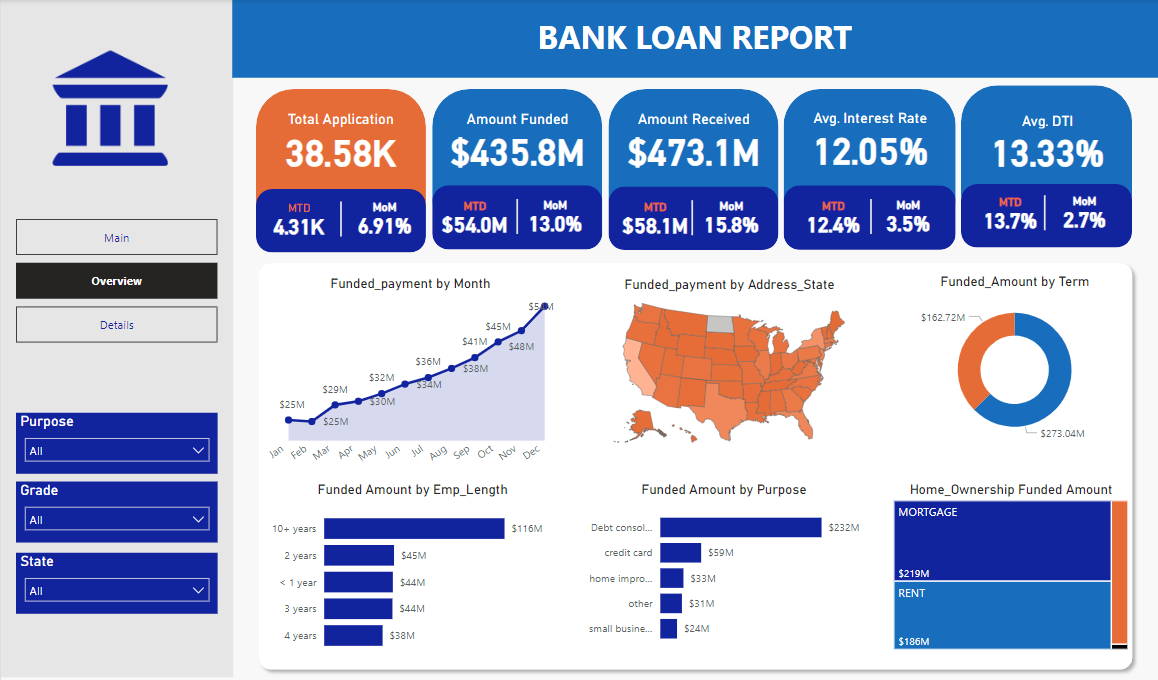

Layout of this report page (visuals, bound fields, positions):
{"tool":"powerbi","page":{"name":"Overview","canvas":[1350,800],"ordinal":1},"visuals":[{"type":"shape","box":[0,0,270.9,791.4],"z":0},{"type":"shape","box":[270.3,0,1079.4,91.3],"z":1000},{"type":"shape","box":[913.4,105.5,201,171.1],"z":2000},{"type":"textbox","box":[601.5,12.5,417.2,63.1],"z":3000},{"type":"shape","box":[1120.2,101.2,199.6,169.7],"z":3000,"group":"g1"},{"type":"shape","box":[708.5,105.5,198.2,172.5],"z":4000,"group":"g2"},{"type":"shape","box":[913.4,216.7,201,75.6],"z":4000},{"type":"shape","box":[1120.2,216.7,199.6,74.1],"z":5000,"group":"g1"},{"type":"shape","box":[290.9,302.2,368.9,239.3],"z":5000},{"type":"image","box":[55.6,55.6,144,144],"z":6000},{"type":"shape","box":[708.5,219.6,198.2,74.1],"z":6000,"group":"g2"},{"type":"pageNavigator","box":[16.8,359.3,235.3,42.8],"z":7000},{"type":"pageNavigator","box":[16.8,308,235.3,42.8],"z":8000},{"type":"card","title":"MTD","fields":{"Values":["financial_loan.MTD AMOUNT RECEIVED"]},"box":[718.5,221,88.4,74.1],"z":9000,"group":"g2"},{"type":"pageNavigator","box":[16.8,256.7,235.3,42.8],"z":9000},{"type":"shape","box":[503.2,105.5,198.2,172.5],"z":10000,"group":"g3"},{"type":"slicer","title":"Purpose","fields":{"Values":["financial_loan.purpose"]},"box":[17.2,482.6,235.4,71.4],"z":10000},{"type":"card","title":" Amount Received","fields":{"Values":["Sum(financial_loan.total_payment)"]},"box":[722.8,115.5,169.7,104.1],"z":11000,"group":"g2"},{"type":"slicer","title":"Grade","fields":{"Values":["financial_loan.grade"]},"box":[17.2,563.3,235.4,71.4],"z":11000},{"type":"shape","box":[503.2,218.2,198.4,74.9],"z":12000,"group":"g3"},{"type":"slicer","title":"State","fields":{"Values":["financial_loan.address_state"]},"box":[17.2,646.6,235.4,71.4],"z":12000},{"type":"group","id":"g1","title":"Group 3","box":[1120.2,101.2,199.6,189.6],"z":13000},{"type":"shape","box":[796.3,235.9,20.4,40.8],"z":13000,"group":"g2"},{"type":"shape","box":[297.9,105.5,198.2,175.4],"z":14000,"group":"g4"},{"type":"group","id":"g2","title":"Group 5","box":[708.5,105.5,198.2,189.6],"z":14000},{"type":"group","id":"g3","title":"Group 6","box":[503.2,105.5,198.4,188.1],"z":15000},{"type":"card","title":"MoM","fields":{"Values":["financial_loan.MoM Received amount"]},"box":[806.9,219.6,91.3,74.1],"z":15000,"group":"g2"},{"type":"group","id":"g4","title":"Group 7","box":[297.9,105.5,198.2,190.1],"z":16000},{"type":"shape","box":[297.9,221.5,198.2,74.1],"z":16000,"group":"g4"},{"type":"shape","box":[654.5,303.8,368.9,239.3],"z":17000},{"type":"card","title":"MTD","fields":{"Values":["financial_loan.MTD INTEREST RATE"]},"box":[925.3,218.2,89.8,74.1],"z":18000},{"type":"shape","box":[1019.5,302.5,309.4,239.3],"z":19000},{"type":"card","title":"Avg. Interest Rate","fields":{"Values":["Avg(financial_loan.int_rate)"]},"box":[939.5,114.1,149.7,104.1],"z":20000},{"type":"card","title":"MTD","fields":{"Values":["financial_loan.MTD LOAN APPLICATION"]},"box":[301.1,221.5,94.1,74.1],"z":20000,"group":"g4"},{"type":"shape","box":[291.3,542.8,368.9,239.3],"z":21000},{"type":"card","title":"Total Application","fields":{"Values":["CountNonNull(financial_loan.id)"]},"box":[319.3,115.5,154,105.5],"z":22000,"group":"g4"},{"type":"shape","box":[1004.6,233,20.4,40.8],"z":22000},{"type":"card","title":"MTD","fields":{"Values":["financial_loan.MTD funded amount"]},"box":[503.6,218.9,99.2,74.8],"z":23000,"group":"g3"},{"type":"shape","box":[655,544.4,368.9,239.3],"z":23000},{"type":"card","title":"Amount Funded ","fields":{"Values":["Sum(financial_loan.loan_amount)"]},"box":[514.6,115.5,175.4,104.1],"z":24000,"group":"g3"},{"type":"shape","box":[1020,543.1,309.4,239.3],"z":24000},{"type":"card","title":"MoM","fields":{"Values":["financial_loan.MoM Interest rate"]},"box":[1014.3,216.7,87,74.1],"z":25000},{"type":"shape","box":[386.8,236.4,20.4,40.8],"z":26000,"group":"g4"},{"type":"areaChart","title":"Funded_payment by Month","fields":{"Category":["financial_loan.MonthName"],"Y":["Sum(financial_loan.loan_amount)"]},"box":[304.1,321.3,345.1,224.8],"z":26000},{"type":"shape","box":[592,233.8,20.4,40.8],"z":27000,"group":"g3"},{"type":"barChart","fields":{"Category":["financial_loan.emp_length"],"Y":["financial_loan.Funded Amount"]},"box":[306.8,563.3,347.8,210.2],"z":27000},{"type":"card","title":"MoM","fields":{"Values":["financial_loan.MoM funded amount"]},"box":[605.9,218.1,82.7,74.1],"z":28000,"group":"g3"},{"type":"barChart","fields":{"Category":["financial_loan.purpose"],"Y":["financial_loan.Funded Amount"]},"box":[669.1,563.3,347.8,201],"z":28000},{"type":"treemap","title":" home_ownership Funded Amount","fields":{"Group":["financial_loan.home_ownership"],"Values":["financial_loan.Funded Amount"]},"box":[1036.7,563.3,283,201],"z":29000},{"type":"card","title":"MoM","fields":{"Values":["financial_loan.MoM Application"]},"box":[406.6,220,81.3,74.1],"z":30000,"group":"g4"},{"type":"shapeMap","title":"Funded_payment by address_state","fields":{"Category":["financial_loan.address_state"],"Value":["Sum(financial_loan.loan_amount)"]},"box":[690.2,324,320,207.6],"z":30000},{"type":"donutChart","title":"Funded_amount by term","fields":{"Category":["financial_loan.term"],"Y":["Sum(financial_loan.loan_amount)"]},"box":[1040.7,321.3,283,206.3],"z":31000},{"type":"card","title":"MTD","fields":{"Values":["financial_loan.MTD AVERAGE DTI"]},"box":[1134.1,215.3,85.6,74.1],"z":32000,"group":"g1"},{"type":"card","title":"Avg. DTI","fields":{"Values":["Avg(financial_loan.dti)"]},"box":[1133,116.9,175.4,104.1],"z":34000,"group":"g1"},{"type":"shape","box":[1208.2,230.2,20.4,40.8],"z":36000,"group":"g1"},{"type":"card","title":"MoM","fields":{"Values":["financial_loan.MoM DTI"]},"box":[1219.7,213.8,89.8,74.1],"z":38000,"group":"g1"}]}

Visuals, with their boxes in screenshot pixels (x1, y1, x2, y2), scaled from the page's 1350x800 canvas onto the 1158x680 screenshot:
shape: 0:0:232:673
shape: 232:0:1157:78
shape: 783:90:956:235
textbox: 516:11:874:64
shape: 961:86:1132:230
shape: 608:90:778:236
shape: 783:184:956:248
shape: 961:184:1132:247
shape: 250:257:566:460
image: 48:47:171:170
shape: 608:187:778:250
pageNavigator: 14:305:216:342
pageNavigator: 14:262:216:298
"MTD" card: 616:188:692:251
pageNavigator: 14:218:216:255
shape: 432:90:602:236
"Purpose" slicer: 15:410:217:471
" Amount Received" card: 620:98:766:187
"Grade" slicer: 15:479:217:539
shape: 432:185:602:249
"State" slicer: 15:550:217:610
"Group 3" group: 961:86:1132:247
shape: 683:201:701:235
shape: 256:90:426:239
"Group 5" group: 608:90:778:251
"Group 6" group: 432:90:602:250
"MoM" card: 692:187:770:250
"Group 7" group: 256:90:426:251
shape: 256:188:426:251
shape: 561:258:878:462
"MTD" card: 794:185:871:248
shape: 875:257:1140:461
"Avg. Interest Rate" card: 806:97:934:185
"MTD" card: 258:188:339:251
shape: 250:461:566:665
"Total Application" card: 274:98:406:188
shape: 862:198:879:233
"MTD" card: 432:186:517:250
shape: 562:463:878:666
"Amount Funded " card: 441:98:592:187
shape: 875:462:1140:665
"MoM" card: 870:184:945:247
shape: 332:201:349:236
"Funded_payment by Month" areaChart: 261:273:557:464
shape: 508:199:525:233
barChart - financial_loan.emp_length x financial_loan.Funded Amount: 263:479:562:657
"MoM" card: 520:185:591:248
barChart - financial_loan.purpose x financial_loan.Funded Amount: 574:479:872:650
" home_ownership Funded Amount" treemap: 889:479:1132:650
"MoM" card: 349:187:419:250
"Funded_payment by address_state" shapeMap: 592:275:867:452
"Funded_amount by term" donutChart: 893:273:1135:448
"MTD" card: 973:183:1046:246
"Avg. DTI" card: 972:99:1122:188
shape: 1036:196:1054:230
"MoM" card: 1046:182:1123:245
